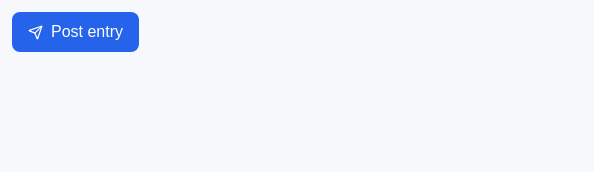
journal workflow controls › reports a thrown posting action and releases the busy state
This screenshot has width=594, height=172.
Step 1. Click the button "Post entry" → point(76, 32), box top-left (12, 12), bottom-right (139, 52)
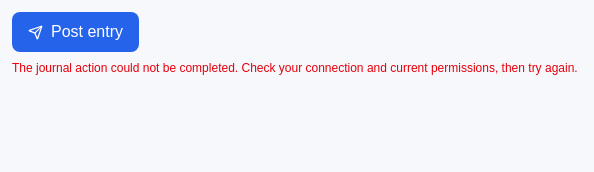
expect the message shows "could not be completed": met, box top-left (12, 61), bottom-right (578, 75)
